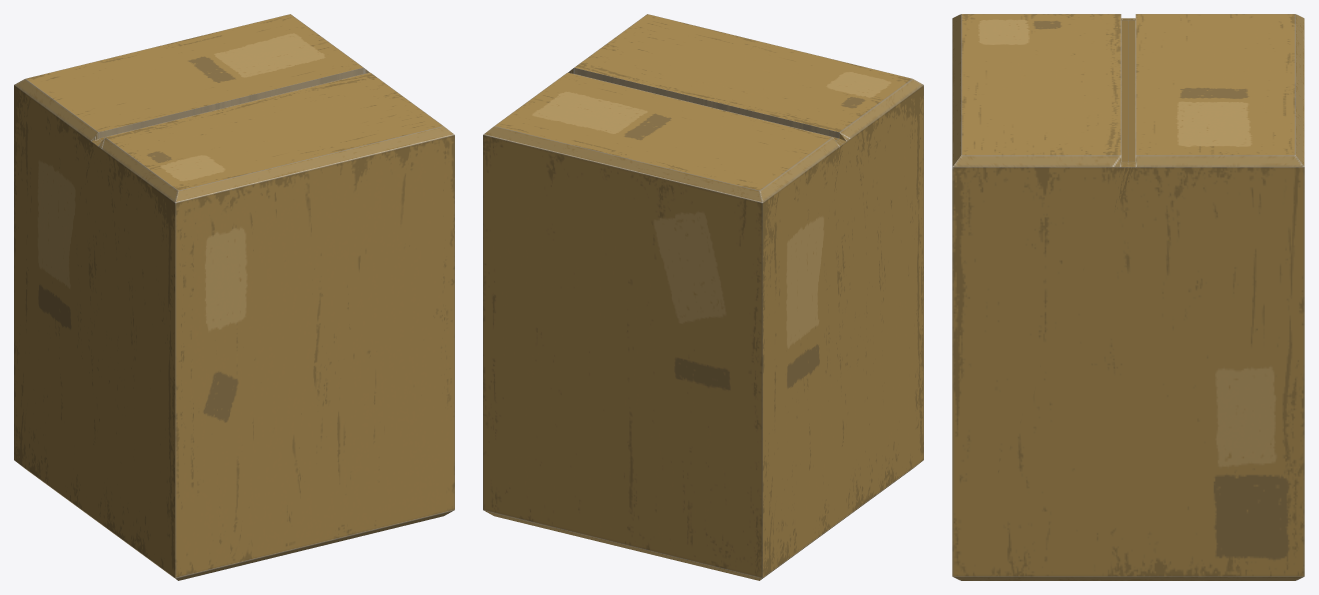
Rendered from TexturedBoxTest2.fbx.
3 renders of one model, left to right at view 1: azimuth 30°, elevation 25°; view 2: azimuth 150°, elevation 25°; view 3: azimuth 270°, elevation 25°, orthographic. The views are drawn at different scales.
Parts seen in each view (by area): view 1: pCube1; view 2: pCube1; view 3: pCube1.
Boxes of the visible parts, x1,y1,x2,y2 form: pCube1: (14,14,454,580); pCube1: (483,14,923,580); pCube1: (952,14,1304,580).
Size of the model in its own units: 3 by 4 by 3.
1 material, 1 textured.
